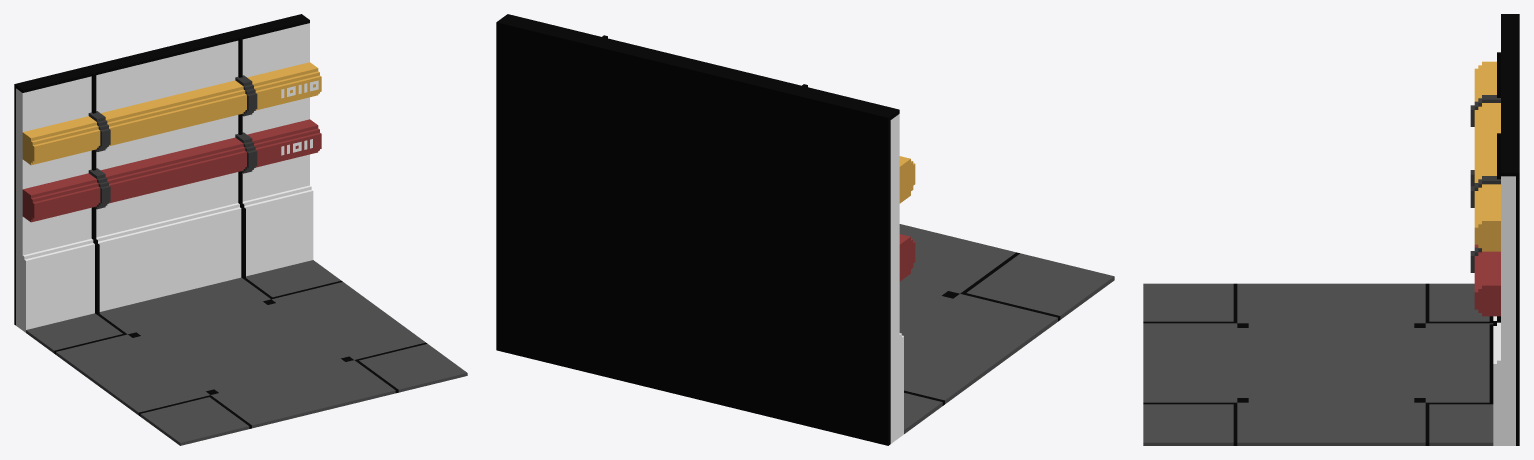
Rendered from Wall Pipes 2.obj.
3 views of the same model, side by side, from view 1: azimuth 30°, elevation 25°; view 2: azimuth 150°, elevation 25°; view 3: azimuth 270°, elevation 25° (orthographic). The views are drawn at different scales.
Size of the model in its own units: 10 by 8 by 10.
